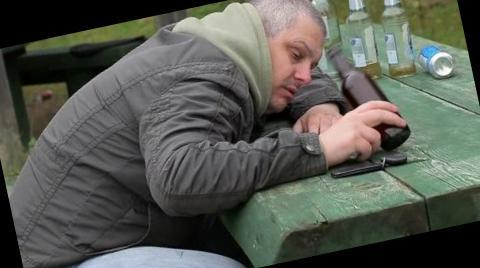Drunk: (267, 18, 324, 107)
